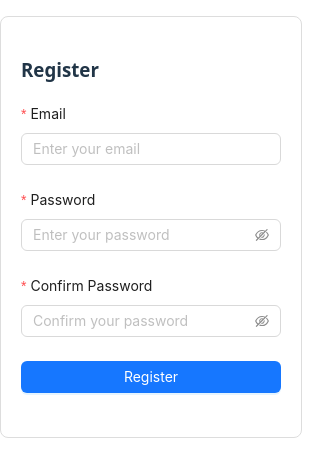
Test: Register component › shows error message when passwords do not match
In the password field with placeholder "Enter your password": (142, 235) [33, 224, 251, 246], type "password123"
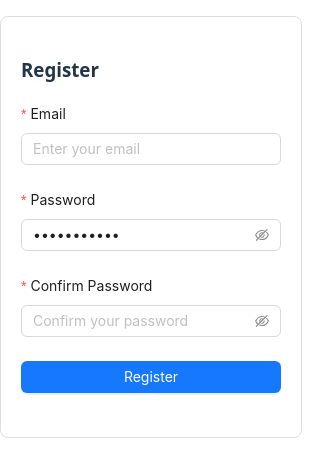
In the password field with placeholder "Confirm your password": (142, 321) [33, 310, 251, 332], type "password456"
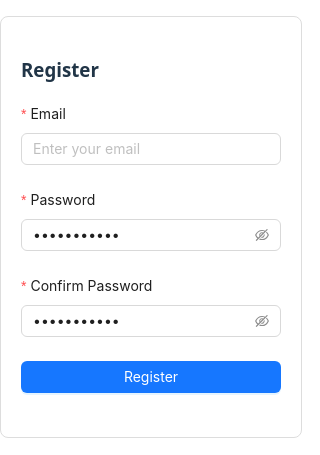
Click the button "Register": (151, 377) [21, 361, 281, 393]
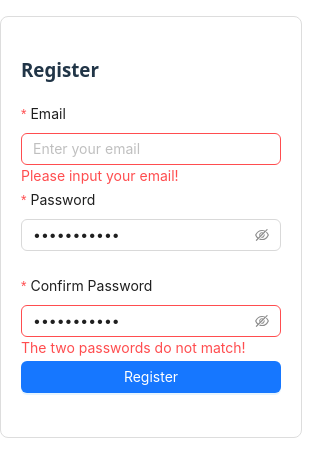
Result: the text "The two passwords do not match!" is shown at [21, 337, 281, 359]
